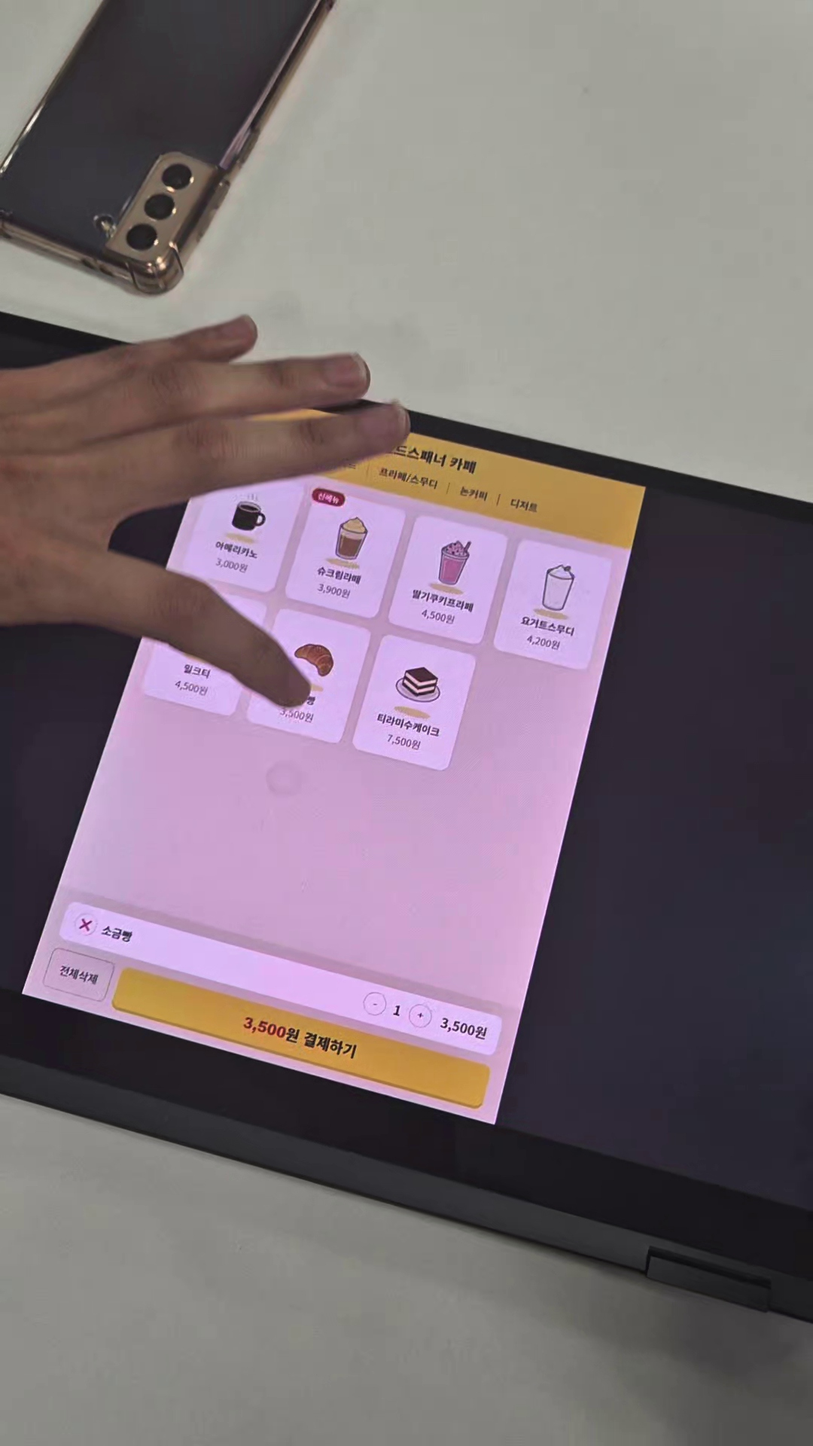action_button: (110, 966, 492, 1110), (40, 947, 116, 1002)
cart_item: (57, 900, 504, 1057)
category_tab: (376, 465, 439, 490), (508, 496, 540, 515), (458, 485, 489, 502)
menu_back: (243, 607, 373, 746), (350, 633, 478, 773), (139, 580, 269, 717), (283, 488, 407, 621), (490, 538, 613, 672), (180, 465, 305, 595), (386, 515, 509, 646)
menu_name: (374, 711, 442, 739), (409, 587, 475, 615), (519, 614, 576, 638), (313, 563, 363, 586), (212, 538, 260, 561), (180, 661, 213, 680)
menu_price: (384, 731, 423, 752), (211, 555, 250, 575), (314, 581, 353, 601), (523, 633, 562, 653), (171, 678, 210, 698), (419, 607, 457, 626)
